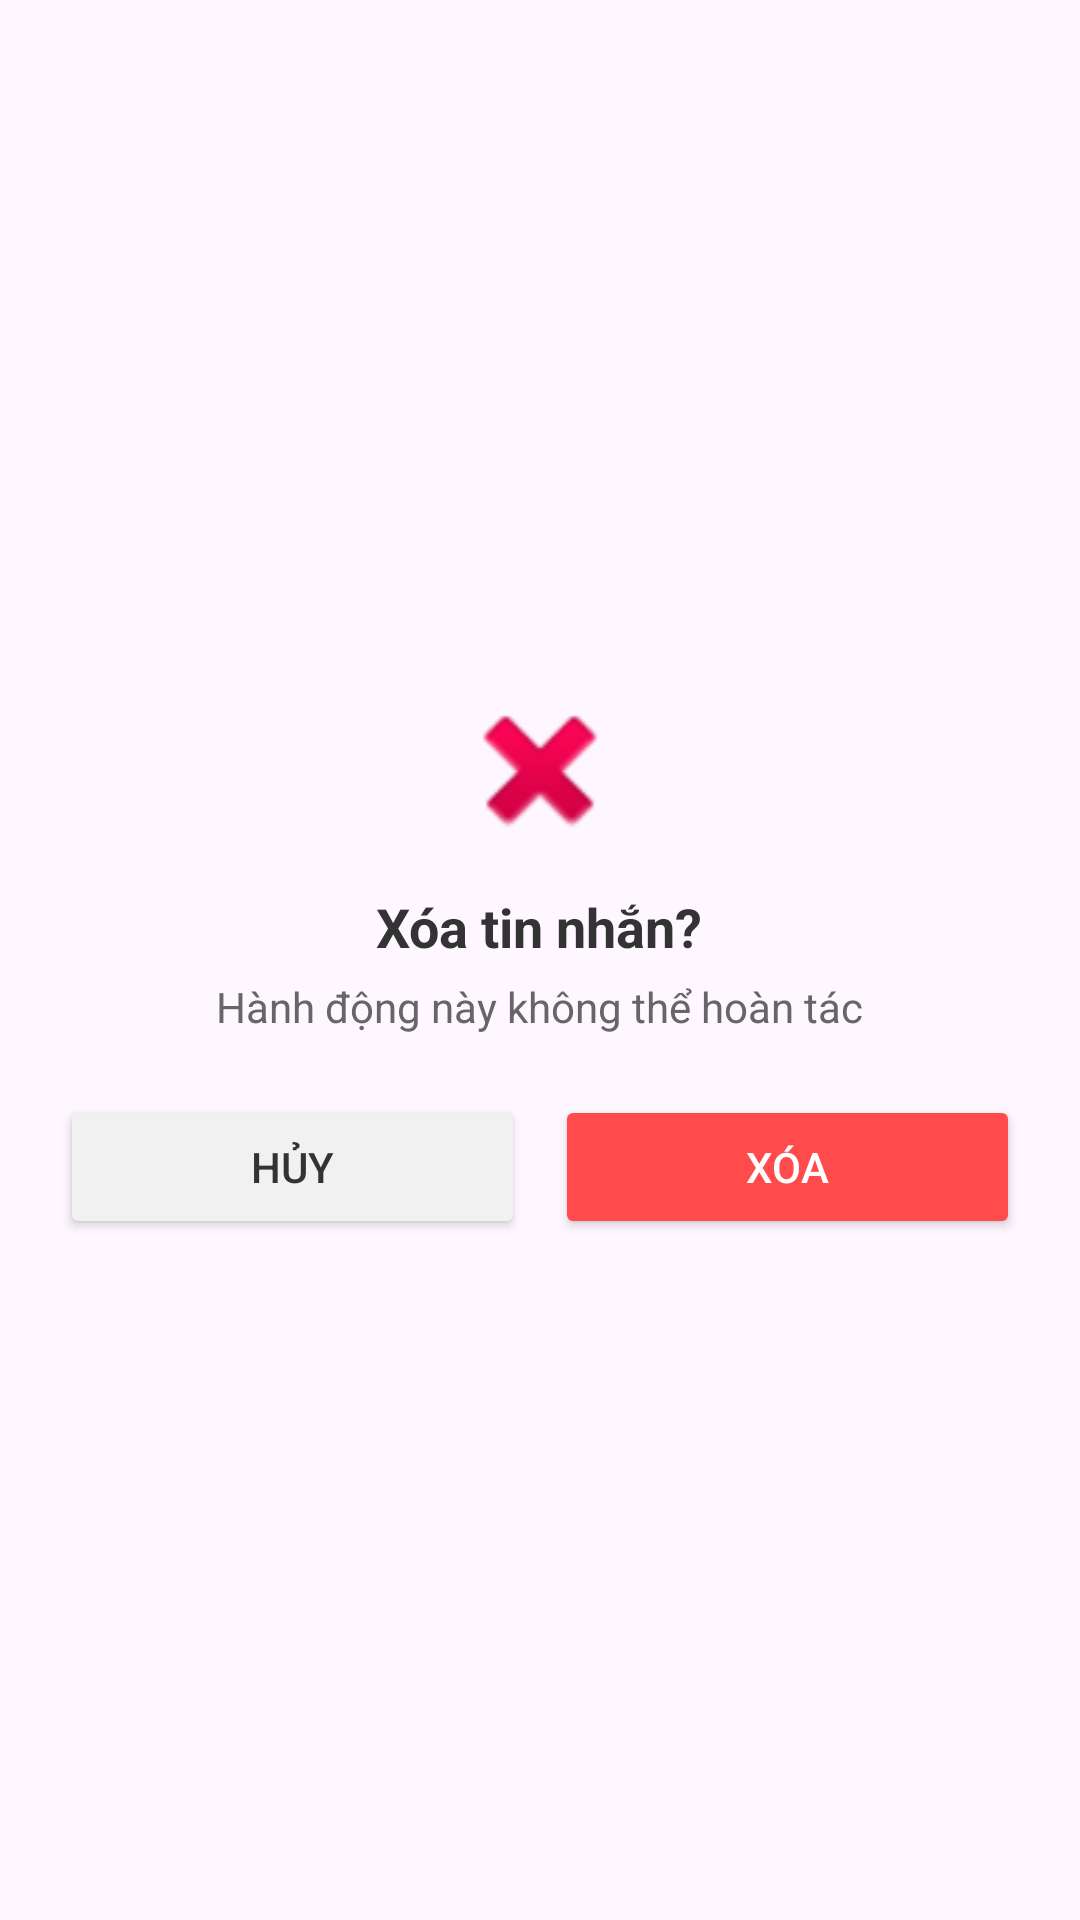

Where to tap for icons on this 1080*1920 app screen, as [x,y]:
Delete: [540,770]
